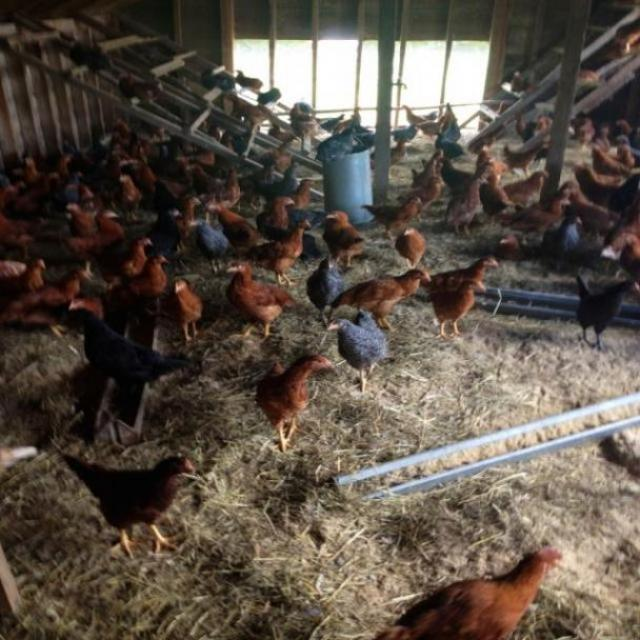Chicken: (369, 547, 559, 640), (51, 439, 194, 561), (247, 347, 340, 449), (574, 274, 637, 349), (235, 71, 264, 92)
